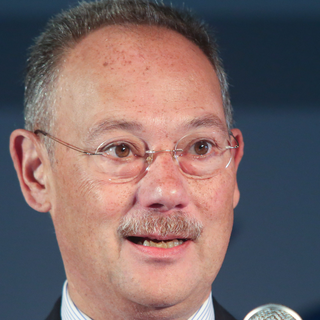eye: (93, 139, 142, 162), (182, 134, 224, 159)
